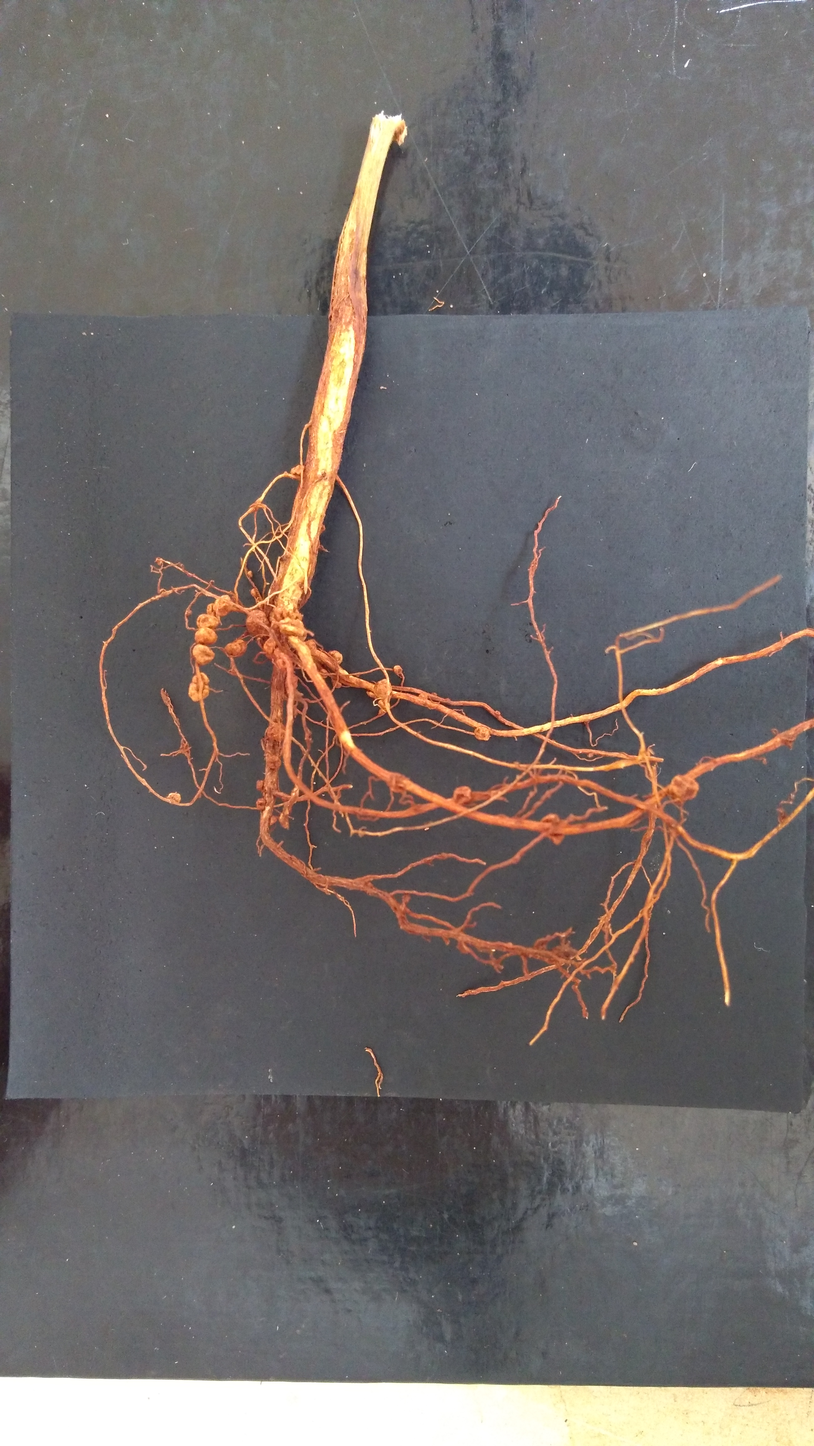nodule: (669, 775, 699, 801), (270, 598, 303, 621), (246, 608, 271, 638), (540, 814, 564, 845), (278, 617, 307, 641), (188, 672, 209, 702), (192, 644, 214, 666), (212, 594, 232, 616), (194, 626, 218, 644), (223, 640, 247, 657), (267, 722, 287, 742), (373, 679, 392, 699), (196, 613, 219, 629), (298, 587, 312, 612), (453, 786, 471, 805), (473, 726, 490, 741), (278, 809, 290, 829), (263, 637, 276, 654), (267, 755, 281, 769), (277, 654, 290, 669), (378, 699, 390, 715), (328, 651, 342, 664), (305, 640, 316, 655), (290, 465, 305, 476), (269, 815, 277, 834), (166, 793, 181, 803), (366, 689, 382, 698), (290, 672, 298, 689), (317, 468, 328, 480), (256, 798, 266, 811), (207, 603, 217, 616), (256, 780, 264, 793), (332, 678, 341, 689), (320, 669, 329, 678), (394, 665, 402, 675), (251, 588, 259, 597), (419, 693, 428, 700), (156, 557, 163, 566), (320, 524, 326, 534), (247, 570, 253, 577), (431, 692, 437, 696), (356, 674, 360, 677)
